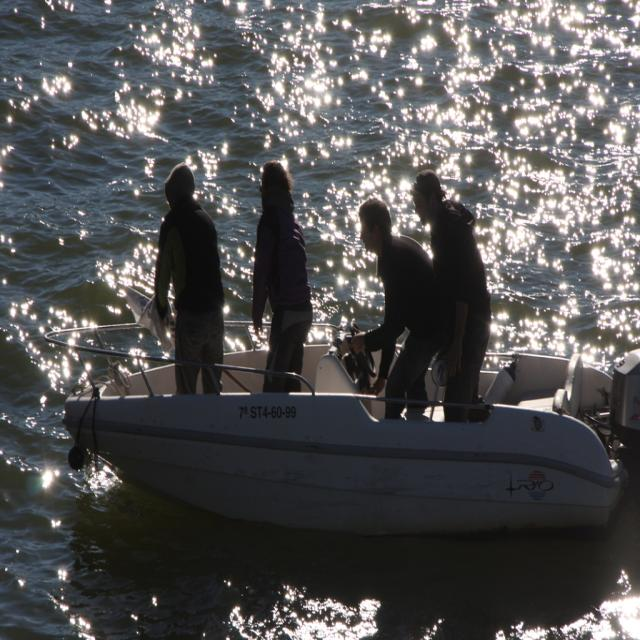Boat: (109, 307, 631, 546)
